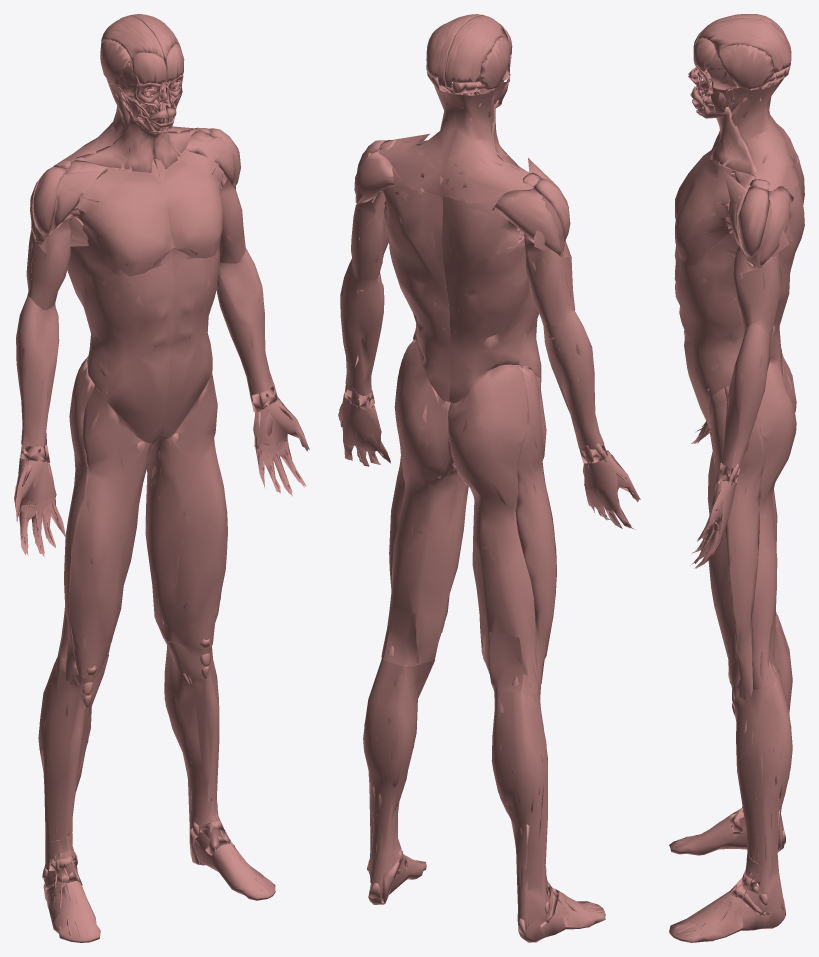
Rendered from muscle.glb.
The picture shows the model from 3 angles, left to right: view 1: azimuth 30°, elevation 25°; view 2: azimuth 150°, elevation 25°; view 3: azimuth 270°, elevation 25°; orthographic projection. The views are drawn at different scales.
Parts seen in each view (by area): view 1: Fascia lata.l.001, Fascia lata.r.001, Investing abdominal fascia.r.001, Crural fascia.r.001, Crural fascia.l.001, Pectoral fascia.r.001, Investing abdominal fascia.l.001, Pectoral fascia.l.001, Antebrachial fascia.r.001, Antebrachial fascia.l.001, Iliotibial tract.r.001, Brachial fascia.r.001 (+14 smaller); view 2: Fascia lata.r.001, Fascia lata.l.001, Investing abdominal fascia.r.001, Crural fascia.r.001, Crural fascia.l.001, Investing abdominal fascia.l.001, Iliotibial tract.r.001, Superficial investing cervical fascia.r.001, Antebrachial fascia.r.001, Antebrachial fascia.l.001, Superficial investing cervical fascia.l.001, Brachial fascia.r.001 (+14 smaller); view 3: Crural fascia.l.001, Fascia lata.l.001, Investing abdominal fascia.l.001, Iliotibial tract.l.001, Antebrachial fascia.l.001, Superficial investing cervical fascia.l.001, Pectoral fascia.l.001, Brachial fascia.l.001, Crural fascia.r.001, Epicranial aponeurosis.l.001, Temporoparietalis muscle.l.001, Platysma.l.001 (+16 smaller).
Part boxes in pixels (<box>): Fascia lata.l.001: <box>145,370,227,649</box>; Fascia lata.r.001: <box>56,356,156,678</box>; Investing abdominal fascia.r.001: <box>67,225,174,443</box>; Crural fascia.r.001: <box>38,655,108,942</box>; Crural fascia.l.001: <box>163,637,275,900</box>; Pectoral fascia.r.001: <box>74,168,172,276</box>; Investing abdominal fascia.l.001: <box>158,247,219,438</box>; Pectoral fascia.l.001: <box>158,149,223,258</box>; Antebrachial fascia.r.001: <box>16,296,59,446</box>; Antebrachial fascia.l.001: <box>216,248,274,394</box>; Iliotibial tract.r.001: <box>64,357,94,686</box>; Brachial fascia.r.001: <box>26,219,71,309</box>; Fascia lata.r.001: <box>448,364,556,694</box>; Fascia lata.l.001: <box>381,340,468,664</box>; Investing abdominal fascia.r.001: <box>442,194,541,403</box>; Crural fascia.r.001: <box>491,683,605,942</box>; Crural fascia.l.001: <box>363,659,434,904</box>; Investing abdominal fascia.l.001: <box>380,167,450,402</box>; Iliotibial tract.r.001: <box>516,365,556,696</box>; Superficial investing cervical fascia.r.001: <box>442,82,533,203</box>; Antebrachial fascia.r.001: <box>541,310,604,449</box>; Antebrachial fascia.l.001: <box>340,258,384,395</box>; Superficial investing cervical fascia.l.001: <box>378,79,456,195</box>; Brachial fascia.r.001: <box>524,236,575,326</box>; Crural fascia.l.001: <box>669,669,792,942</box>; Fascia lata.l.001: <box>708,361,796,689</box>; Investing abdominal fascia.l.001: <box>674,183,804,429</box>; Iliotibial tract.l.001: <box>724,383,765,699</box>; Antebrachial fascia.l.001: <box>721,323,772,468</box>; Superficial investing cervical fascia.l.001: <box>709,78,798,191</box>; Pectoral fascia.l.001: <box>675,159,732,265</box>; Brachial fascia.l.001: <box>733,243,781,331</box>; Crural fascia.r.001: <box>669,615,792,855</box>; Epicranial aponeurosis.l.001: <box>697,18,791,72</box>; Temporoparietalis muscle.l.001: <box>716,44,773,89</box>; Platysma.l.001: <box>696,107,758,176</box>.
Size of the model in its own units: 0.6717 by 1.92 by 0.2694.
